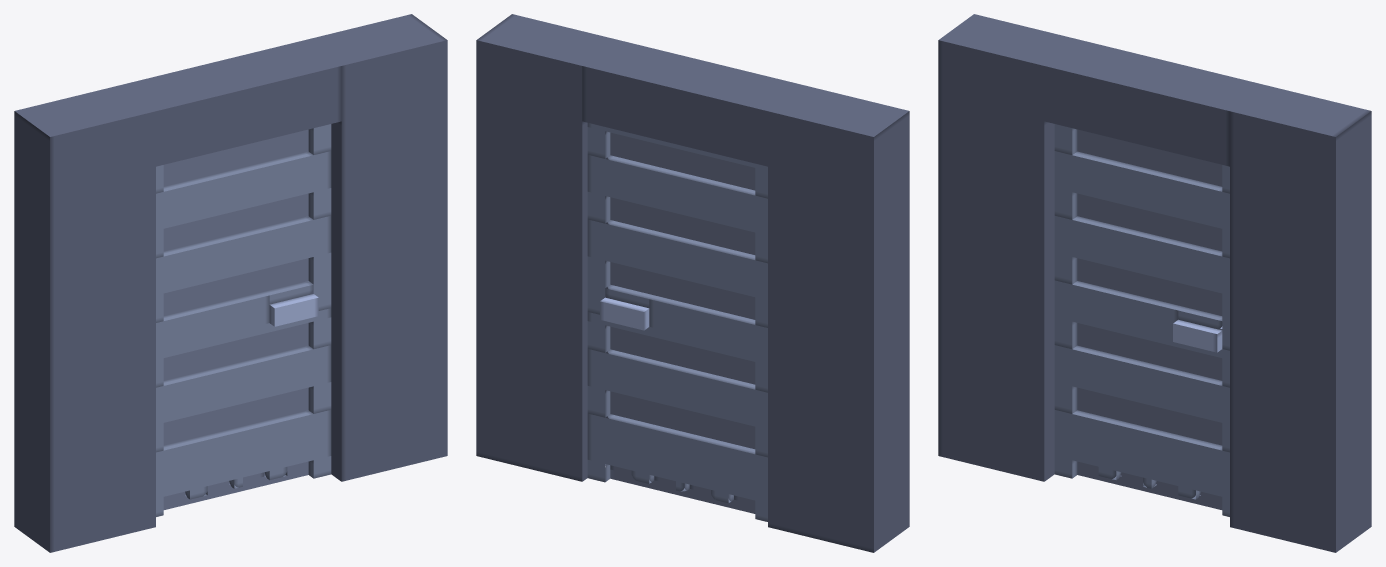
File: dzwi_w_srodku.dae
The picture shows the model from 3 angles, left to right: view 1: azimuth 30°, elevation 25°; view 2: azimuth 150°, elevation 25°; view 3: azimuth 330°, elevation 25°; orthographic projection.
Parts seen in each view (by area): view 1: Content; view 2: Content; view 3: Content.
Part boxes in pixels (x1=…): Content: x1=14, y1=14, x2=447, y2=552; Content: x1=476, y1=14, x2=909, y2=552; Content: x1=938, y1=14, x2=1371, y2=552.
Size of the model in its own units: 45 by 45 by 7.
Materials: 1 (1 with a texture image).
